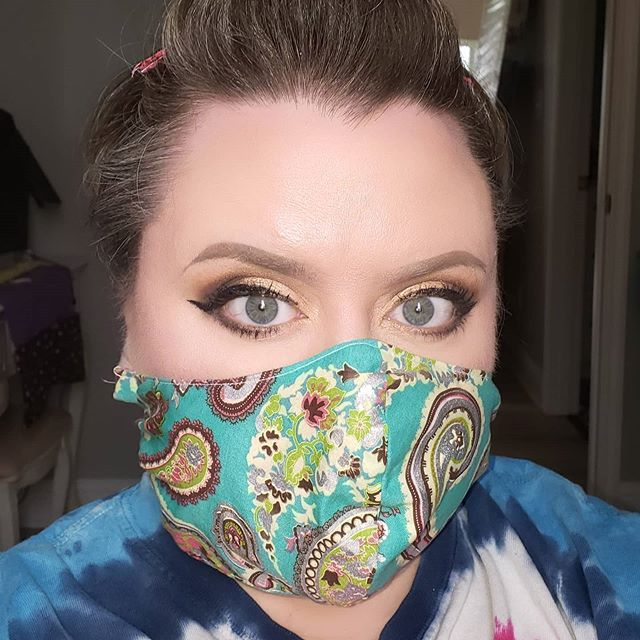homemade: (106, 338, 545, 612)
